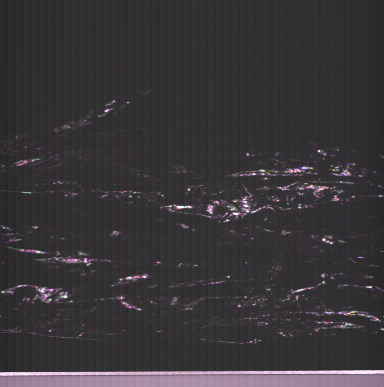Film_on_PE: (124, 208, 150, 258), (17, 201, 93, 216), (323, 211, 377, 230), (160, 233, 206, 255), (86, 150, 114, 177), (3, 267, 46, 284), (70, 224, 102, 246), (287, 257, 309, 284), (104, 311, 139, 326), (129, 141, 158, 157), (248, 245, 266, 270), (220, 248, 238, 263), (167, 178, 182, 193)
Singularity: (15, 160, 29, 164), (309, 186, 326, 189), (22, 250, 42, 252), (302, 167, 313, 170), (175, 206, 190, 208), (208, 206, 213, 212), (72, 259, 79, 263), (39, 289, 46, 293), (242, 205, 251, 208), (260, 169, 267, 172), (104, 109, 109, 112), (243, 197, 246, 201), (127, 277, 132, 279)
